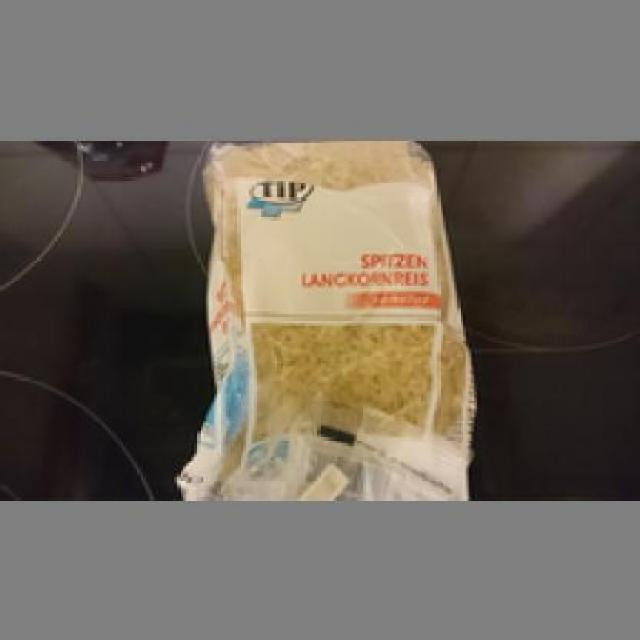Rice: (168, 134, 478, 497)
